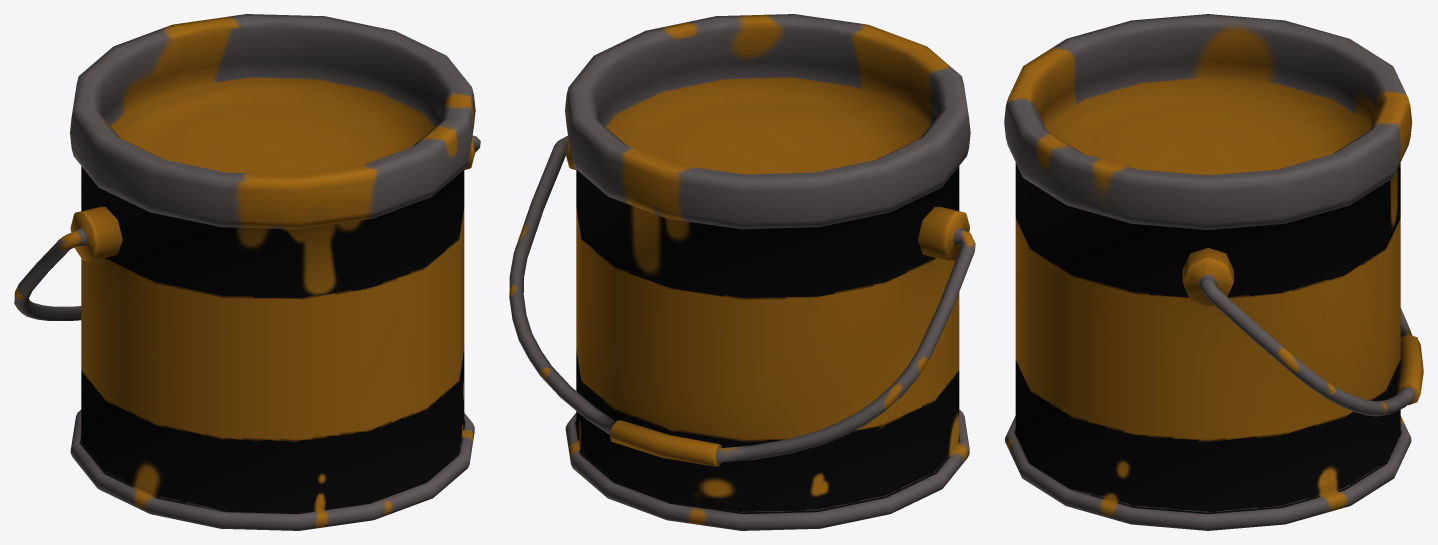
Rendered from pot de peinture.obj.
3 views of the same model, side by side, from view 1: azimuth 30°, elevation 25°; view 2: azimuth 150°, elevation 25°; view 3: azimuth 270°, elevation 25° (orthographic).
Visible parts, largest first — view 1: lp_Cylinder.003; view 2: lp_Cylinder.003; view 3: lp_Cylinder.003.
Part boxes in pixels (<box>): lp_Cylinder.003: <box>14,14,480,530</box>; lp_Cylinder.003: <box>509,14,975,530</box>; lp_Cylinder.003: <box>1004,14,1423,530</box>.
Bounding box in the file's own units: 2.52 × 2 × 2.18.
1 material, 1 textured.
